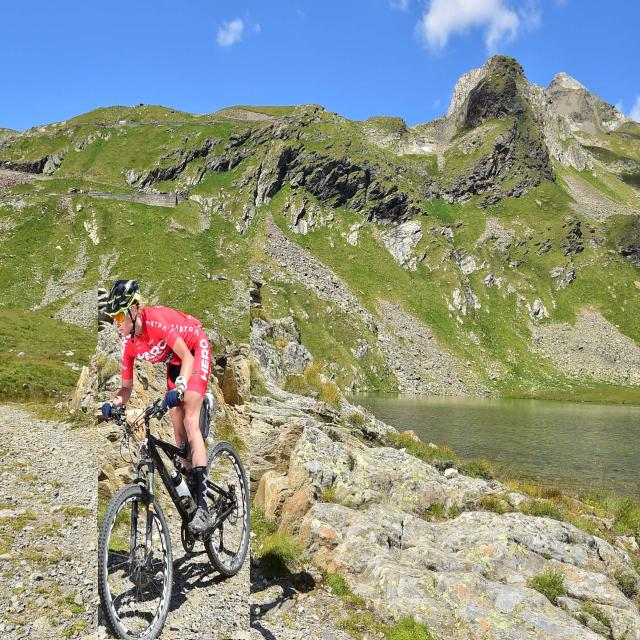bicycle: (98, 280, 250, 639)
